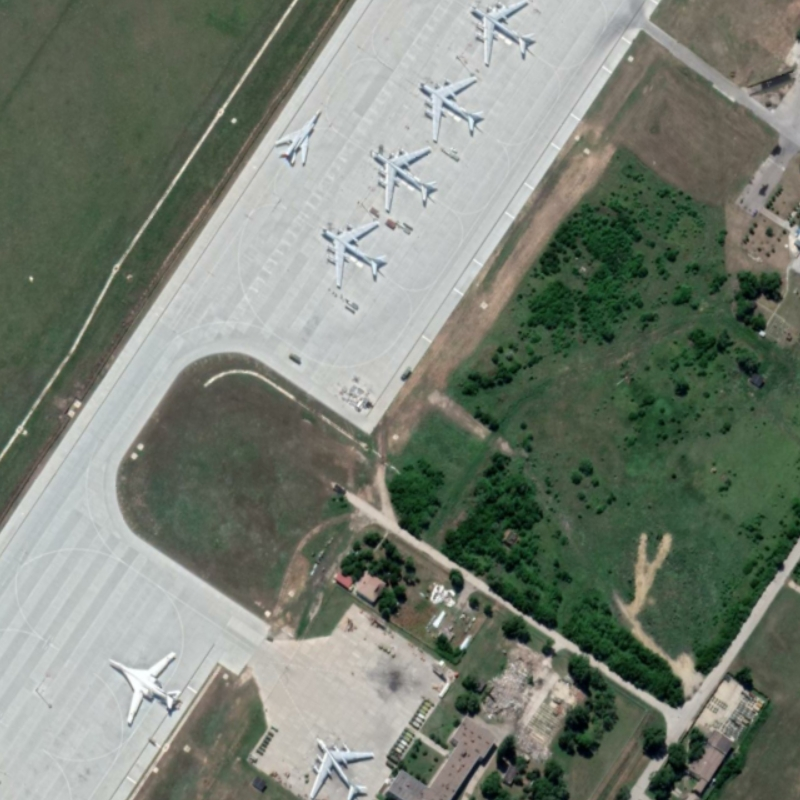A12: (270, 107, 326, 170)
A17: (316, 219, 390, 293), (463, 2, 541, 69), (367, 144, 441, 214), (305, 729, 376, 800), (413, 75, 487, 143)
A6: (106, 647, 184, 728)
